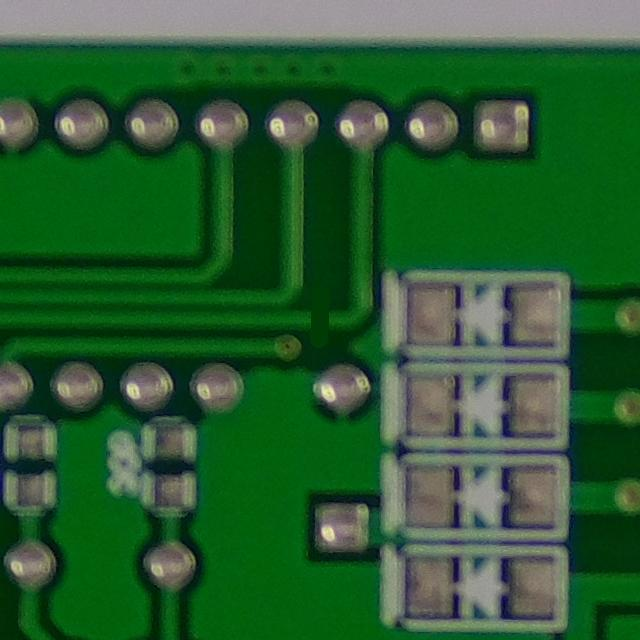open_circuit: (297, 299, 344, 341)
